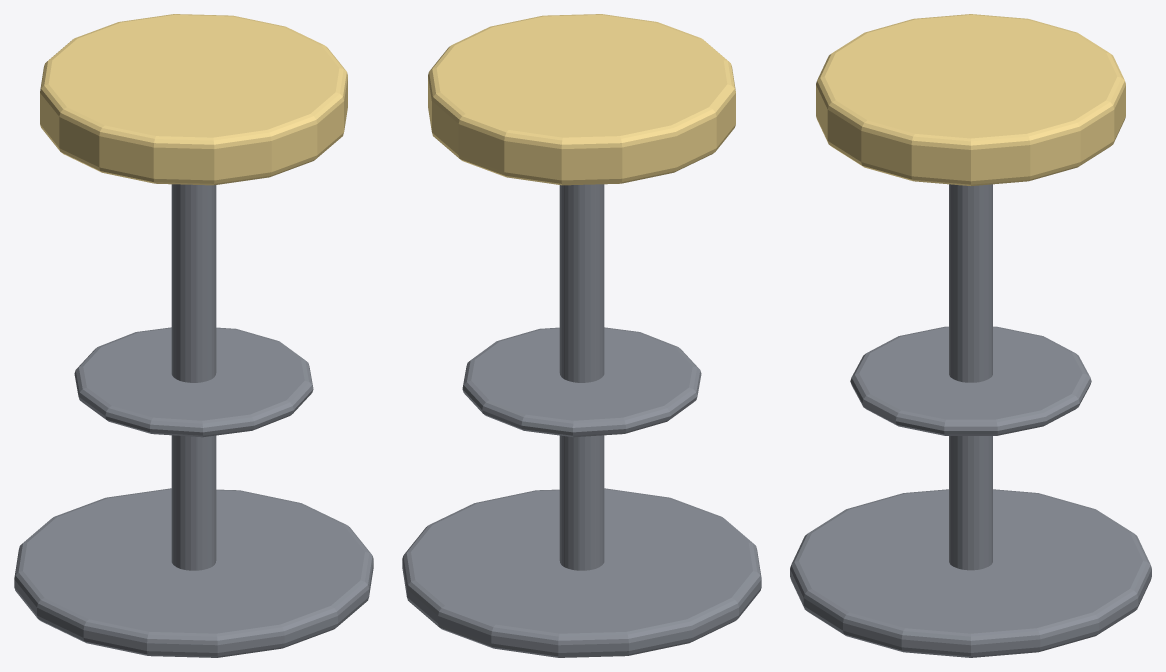
File: Stool.fbx
3 renders of one model, left to right at view 1: azimuth 30°, elevation 25°; view 2: azimuth 150°, elevation 25°; view 3: azimuth 270°, elevation 25°, orthographic.
Parts seen in each view (by area): view 1: Stool; view 2: Stool; view 3: Stool.
Boxes of the visible parts, left/top/right/bottom form: Stool: left=14, top=14, right=373, bottom=657; Stool: left=402, top=14, right=761, bottom=657; Stool: left=790, top=14, right=1151, bottom=657.
Bounding box in the file's own units: 0.42 × 0.65 × 0.42.
